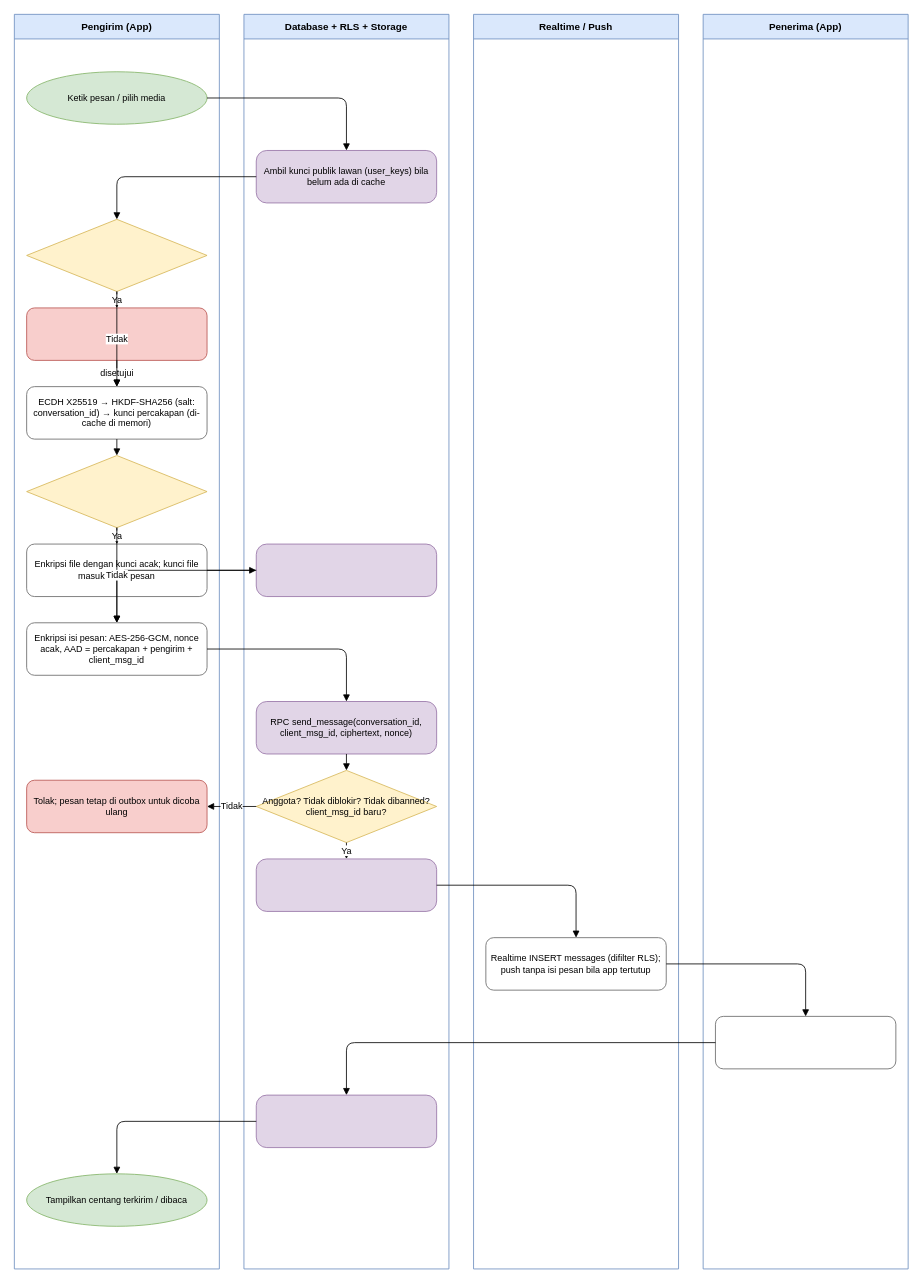
This 923x1283 diagram has some shape labels left out. The shapes that lost their labels are listed below. From the top down, each one's box as (x1, y1, x2, y2) in pixels, then its label:
(26, 219, 207, 292): Kunci publik berubah dari cache?
(26, 307, 207, 360): Peringatkan pengguna, minta verifikasi sidik jari kunci
(26, 455, 207, 528): Ada media?
(255, 543, 437, 597): Upload blob terenkripsi ke bucket privat chat-media; insert attachments
(255, 858, 437, 911): Insert messages (seq berikutnya); update last_message_at, expires_at
(715, 1016, 896, 1069): Turunkan kunci yang sama (ECDH + HKDF), dekripsi, tampilkan
(255, 1094, 437, 1148): RPC mark_read: update last_read_seq
